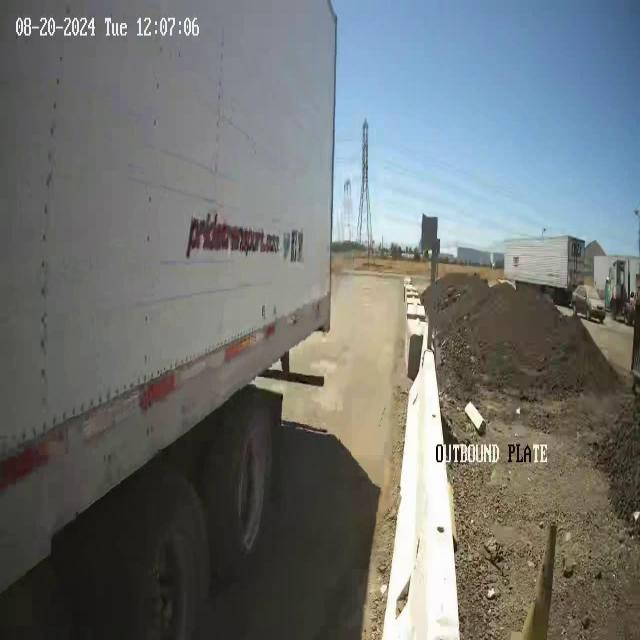TRUCK_OUT: (1, 0, 339, 592)
